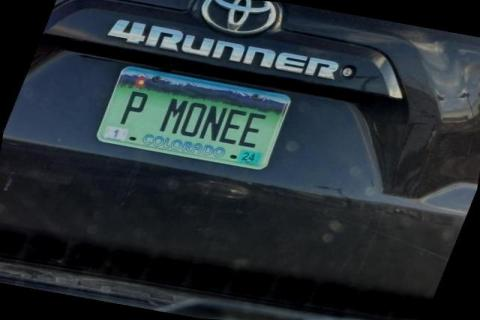LicensePlate: (90, 63, 292, 171)
